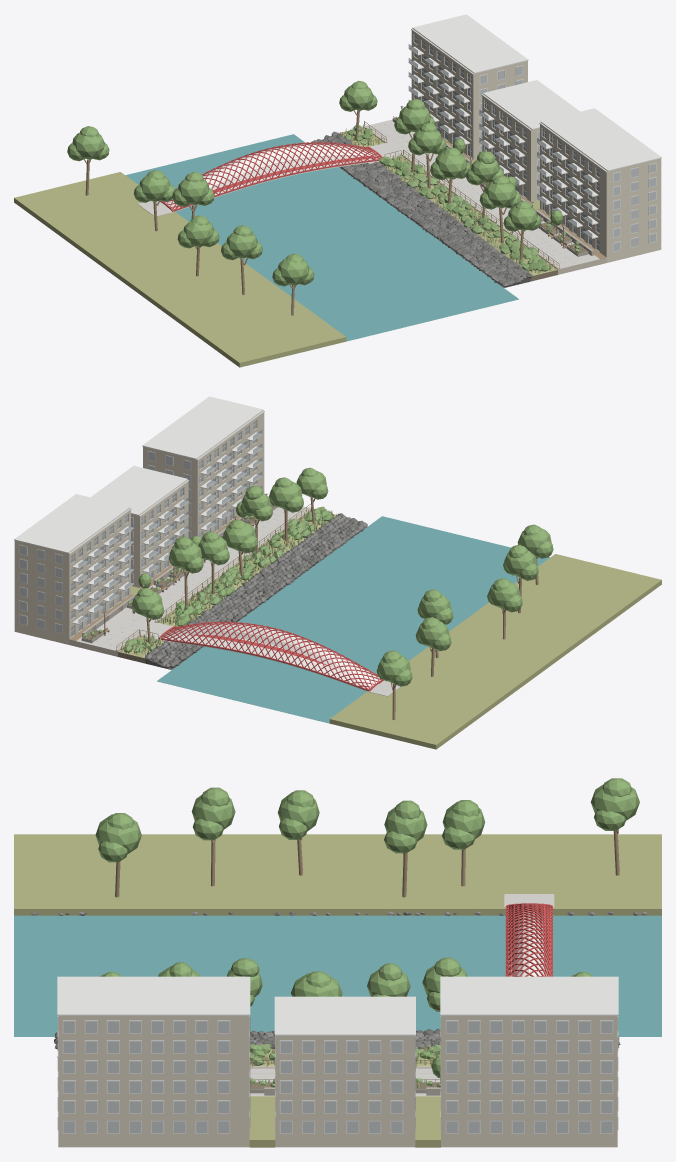
File: clay-calgary-riverwalk-clay-v003.glb
3 views of the same model, one above another, from view 1: azimuth 30°, elevation 25°; view 2: azimuth 150°, elevation 25°; view 3: azimuth 270°, elevation 25° (orthographic). The views are drawn at different scales.
Visible parts, largest first — view 1: CLAY_WATER, CLAY_GRASS, CLAY_TRIM, CLAY_BRICK, CLAY_TREE, CLAY_GLASS, CLAY_CONCRETE, CLAY_RED, CLAY_WHITE, CLAY_ROCK, CLAY_PLANTING, CLAY_ROCK3 (+3 smaller); view 2: CLAY_WATER, CLAY_GRASS, CLAY_TRIM, CLAY_BRICK, CLAY_TREE, CLAY_GLASS, CLAY_CONCRETE, CLAY_RED, CLAY_WHITE, CLAY_PLANTING, CLAY_ROCK3, CLAY_ROCK (+6 smaller); view 3: CLAY_GRASS, CLAY_TRIM, CLAY_WATER, CLAY_BRICK, CLAY_TREE, CLAY_GLASS, CLAY_RED, CLAY_CONCRETE, CLAY_TIMBER, CLAY_WHITE, CLAY_PLANTING, CLAY_ROCK3.
Part boxes in pixels (x1,y1,x2,y2): CLAY_WATER: (125,134,518,341); CLAY_GRASS: (14,124,557,367); CLAY_TRIM: (408,14,661,252); CLAY_BRICK: (411,28,661,262); CLAY_TREE: (67,80,563,286); CLAY_GLASS: (408,35,655,250); CLAY_CONCRETE: (138,119,599,269); CLAY_RED: (160,142,382,211); CLAY_WHITE: (160,143,380,211); CLAY_ROCK: (311,136,522,286); CLAY_PLANTING: (342,117,579,272); CLAY_ROCK3: (313,131,528,286); CLAY_WATER: (157,516,550,723); CLAY_GRASS: (118,508,661,749); CLAY_TRIM: (14,396,264,636); CLAY_BRICK: (14,410,264,644); CLAY_TREE: (129,467,553,686); CLAY_GLASS: (20,420,262,636); CLAY_CONCRETE: (76,506,400,696); CLAY_RED: (158,621,383,691); CLAY_WHITE: (162,623,383,691); CLAY_PLANTING: (82,505,337,653); CLAY_ROCK3: (144,515,367,668); CLAY_ROCK: (150,518,365,668); CLAY_GRASS: (14,834,661,1147); CLAY_TRIM: (57,976,618,1133); CLAY_WATER: (14,915,661,1036); CLAY_BRICK: (58,1016,617,1147); CLAY_TREE: (57,778,639,1077); CLAY_GLASS: (64,1016,611,1132); CLAY_RED: (505,903,552,976); CLAY_CONCRETE: (250,894,554,1096); CLAY_TIMBER: (115,829,619,1083); CLAY_WHITE: (509,909,549,976); CLAY_PLANTING: (250,1043,440,1087); CLAY_ROCK3: (38,911,646,1048).
Bounding box in the file's own units: 98.6 × 19.9 × 88.
